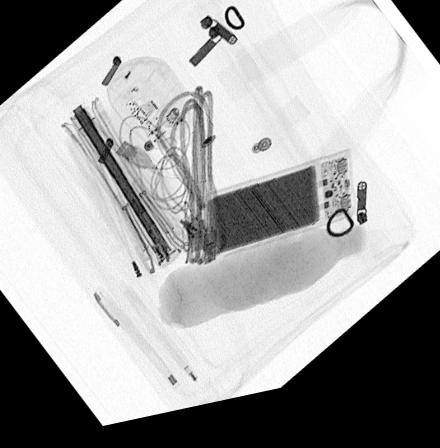Powerbank: (203, 163, 357, 268)
